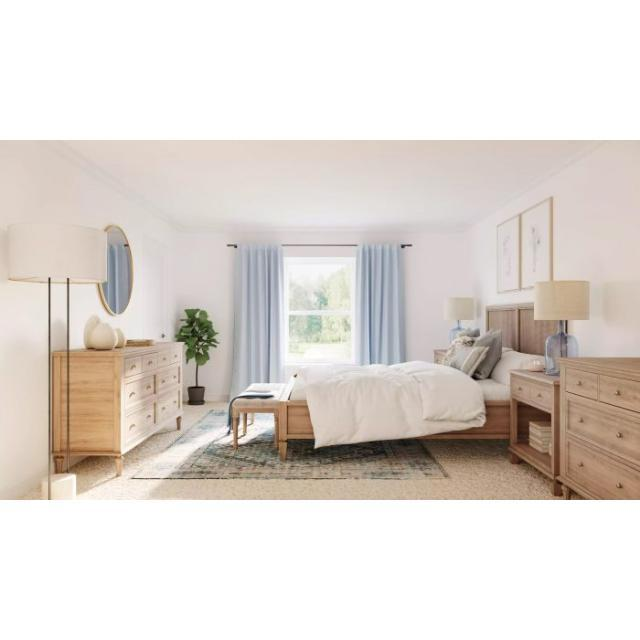bed: (280, 298, 566, 460)
dresser: (53, 340, 185, 478)
lamp: (8, 222, 110, 499)
